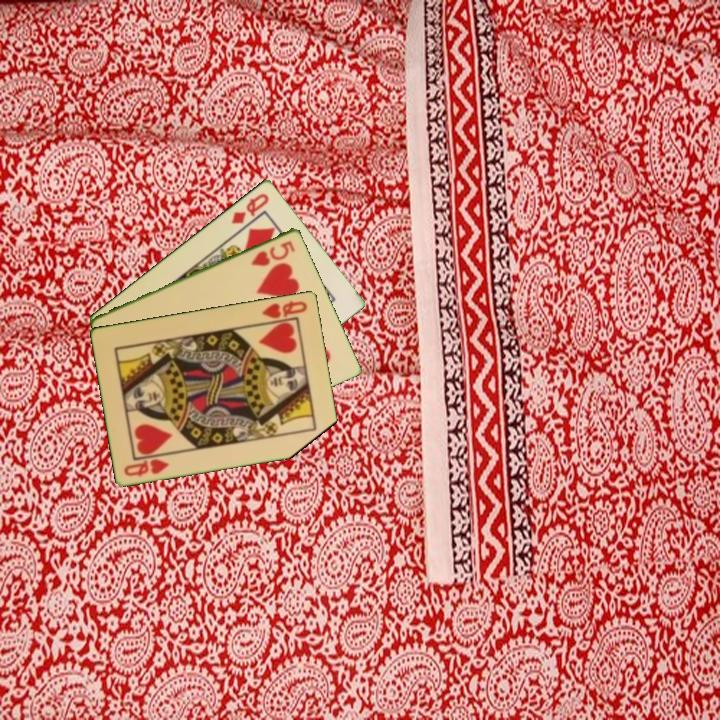5h: (248, 237, 298, 269)
Qd: (228, 189, 272, 227)
Qh: (257, 297, 310, 325), (120, 455, 172, 479)
